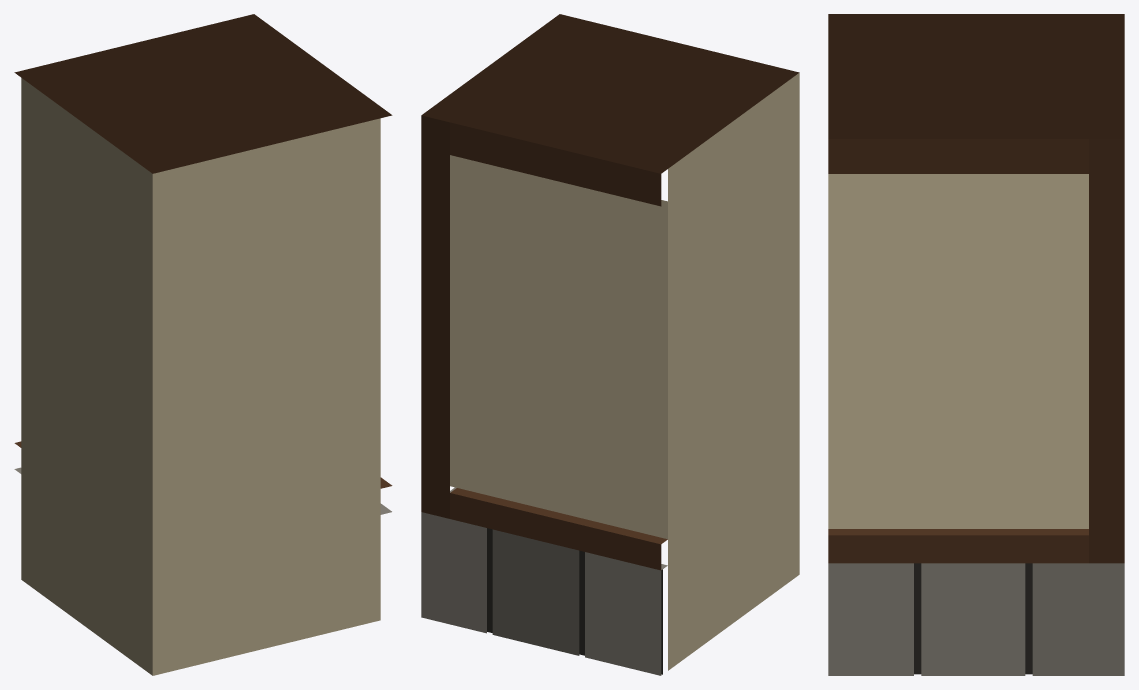
File: tile_house_wall_6.glb
The picture shows the model from 3 angles, left to right: view 1: azimuth 30°, elevation 25°; view 2: azimuth 150°, elevation 25°; view 3: azimuth 270°, elevation 25°; orthographic projection. The views are drawn at different scales.
Parts seen in each view (by area): view 1: tile_house_wall_6; view 2: tile_house_wall_6; view 3: tile_house_wall_6.
Part boxes in pixels (box(x1,y1,x2,y2)): tile_house_wall_6: box(14, 14, 392, 675); tile_house_wall_6: box(421, 14, 799, 675); tile_house_wall_6: box(828, 14, 1124, 675).
Size of the model in its own units: 1 by 2 by 1.
